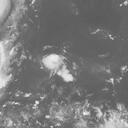cyclone: (42, 53, 74, 83), (0, 42, 10, 88), (0, 1, 12, 28)
